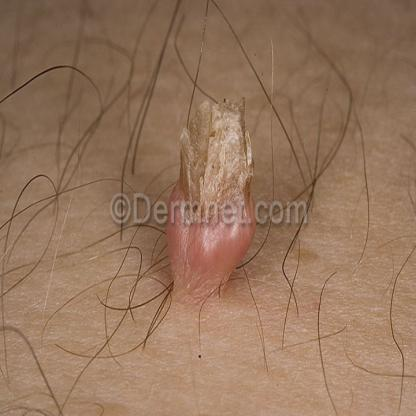Warts: (162, 82, 263, 198)
